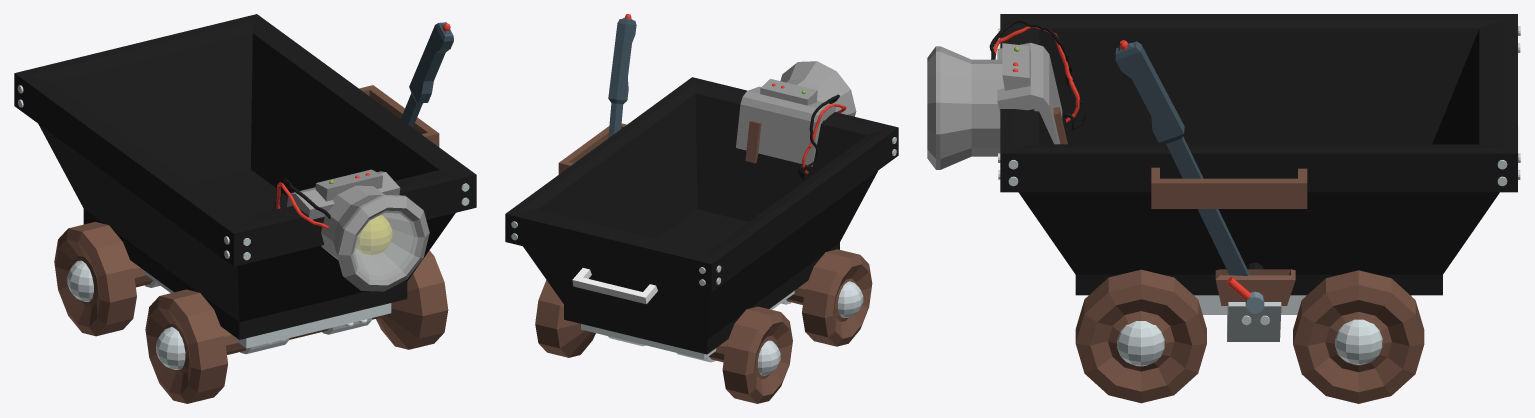
Rendered from carttest2.glb.
3 views of the same model, side by side, from view 1: azimuth 30°, elevation 25°; view 2: azimuth 150°, elevation 25°; view 3: azimuth 270°, elevation 25° (orthographic). The views are drawn at different scales.
Visible parts, largest first — view 1: group886312682, group672785919, group1959756306, group1740952096, group1695922619, group208685076, group325307691, group1534735487, group139019841, group1870260659, group876192833; view 2: group886312682, group1959756306, group672785919, group1534735487, group1740952096, group208685076, group1903098872, group139019841, group325307691, group876192833, group111032520; view 3: group886312682, group672785919, group1959756306, group1740952096, group208685076, group876192833, group1534735487, group601013571, group1224683189, group139019841, group325307691, group467192013.
Part boxes in pixels (bbox=[...]): group886312682: bbox=[14, 14, 476, 339]; group672785919: bbox=[145, 250, 448, 403]; group1959756306: bbox=[54, 222, 152, 336]; group1740952096: bbox=[321, 185, 429, 291]; group1695922619: bbox=[353, 211, 417, 279]; group208685076: bbox=[401, 22, 453, 127]; group325307691: bbox=[144, 270, 391, 348]; group1534735487: bbox=[287, 171, 400, 219]; group139019841: bbox=[315, 169, 382, 201]; group1870260659: bbox=[355, 215, 391, 255]; group876192833: bbox=[359, 85, 439, 146]; group886312682: bbox=[505, 77, 898, 354]; group1959756306: bbox=[535, 280, 792, 403]; group672785919: bbox=[786, 249, 872, 346]; group1534735487: bbox=[736, 86, 835, 166]; group1740952096: bbox=[780, 61, 856, 116]; group208685076: bbox=[608, 17, 636, 137]; group1903098872: bbox=[572, 268, 657, 304]; group139019841: bbox=[760, 79, 817, 105]; group325307691: bbox=[581, 290, 794, 359]; group876192833: bbox=[558, 123, 626, 174]; group111032520: bbox=[745, 120, 761, 163]; group886312682: bbox=[1000, 14, 1517, 295]; group672785919: bbox=[1075, 269, 1206, 403]; group1959756306: bbox=[1293, 270, 1424, 403]; group1740952096: bbox=[927, 46, 1004, 169]; group208685076: bbox=[1115, 41, 1249, 275]; group876192833: bbox=[1151, 167, 1307, 208]; group1534735487: bbox=[997, 42, 1062, 144]; group601013571: bbox=[1215, 269, 1295, 305]; group1224683189: bbox=[1227, 302, 1281, 341]; group139019841: bbox=[1002, 43, 1030, 90]; group325307691: bbox=[1194, 295, 1411, 314]; group467192013: bbox=[993, 26, 1079, 122].
Bounding box in the file's own units: 1.42 × 1.51 × 2.17.
